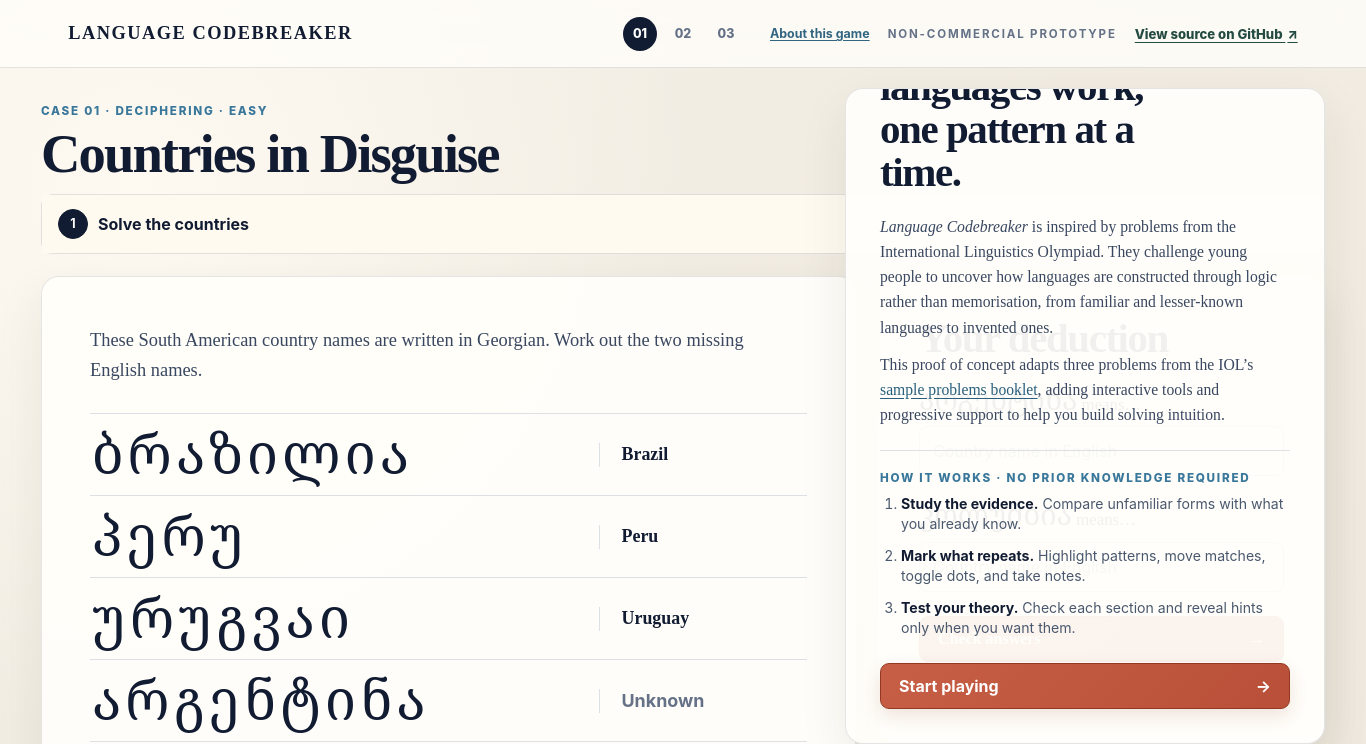
Scenario: prototype interactions › turns validation into a completion marker and distinguishes case navigation
The image size is (1366, 744).
(page scrolled)
Click the button "Start playing →".
click(949, 686)  # box [880,663,1290,709]
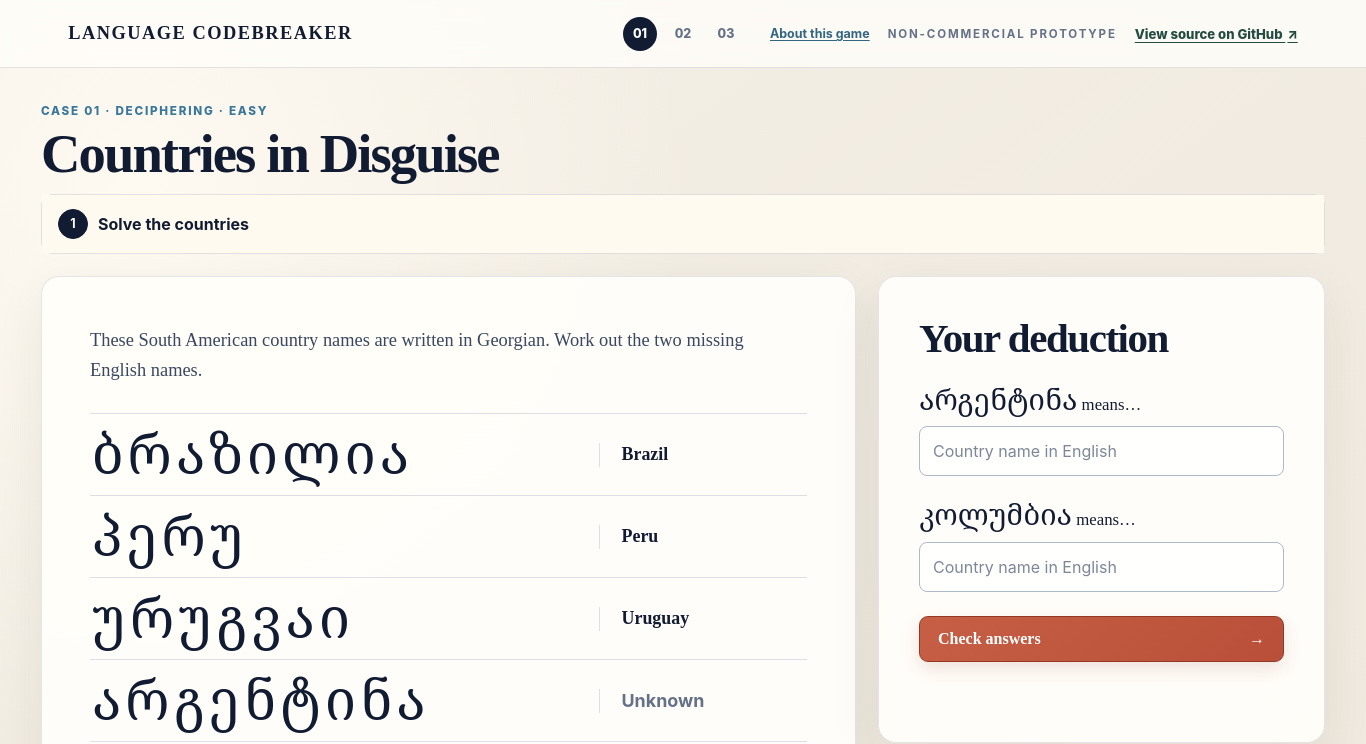
Type "Argentina" into the field with placeholder "Country name in English".
click(1102, 451); type("Argentina")  # box [919,426,1284,476]
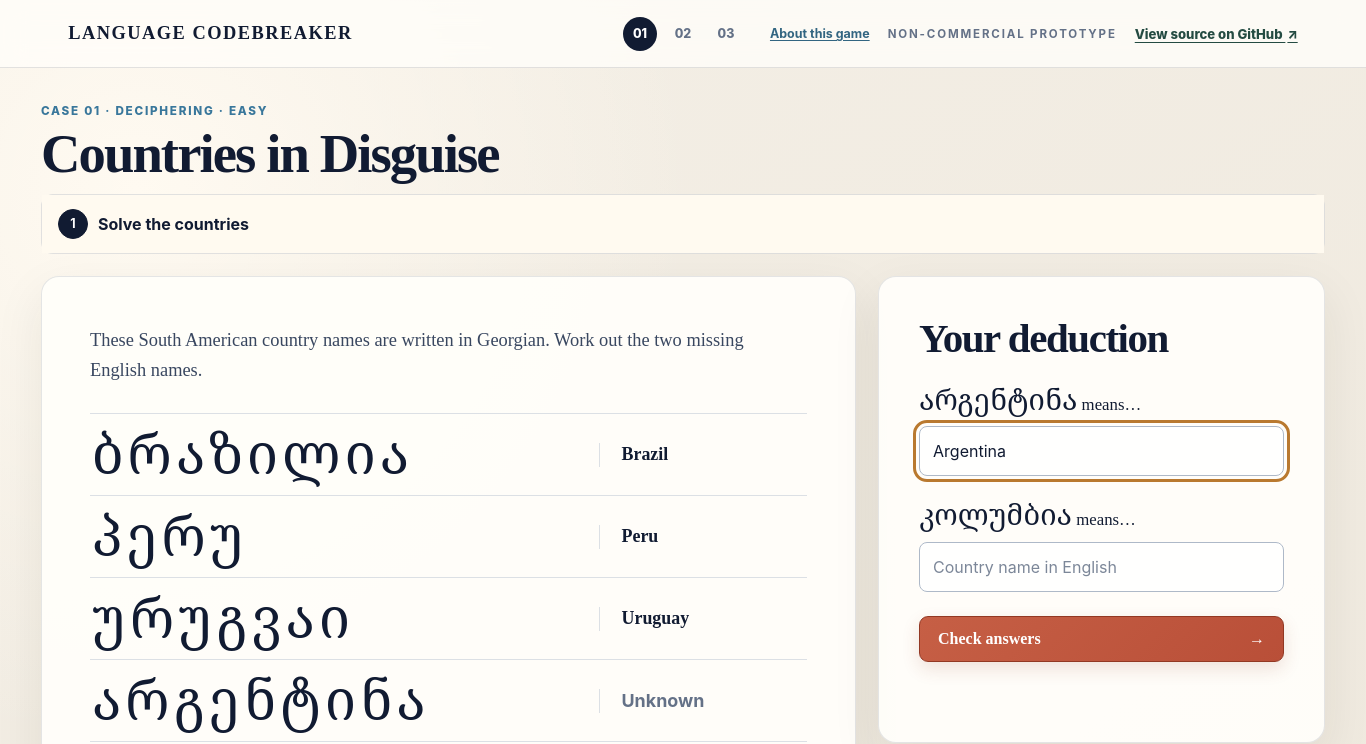
Type "Colombia" into the field with placeholder "Country name in English".
click(1102, 567); type("Colombia")  # box [919,542,1284,592]
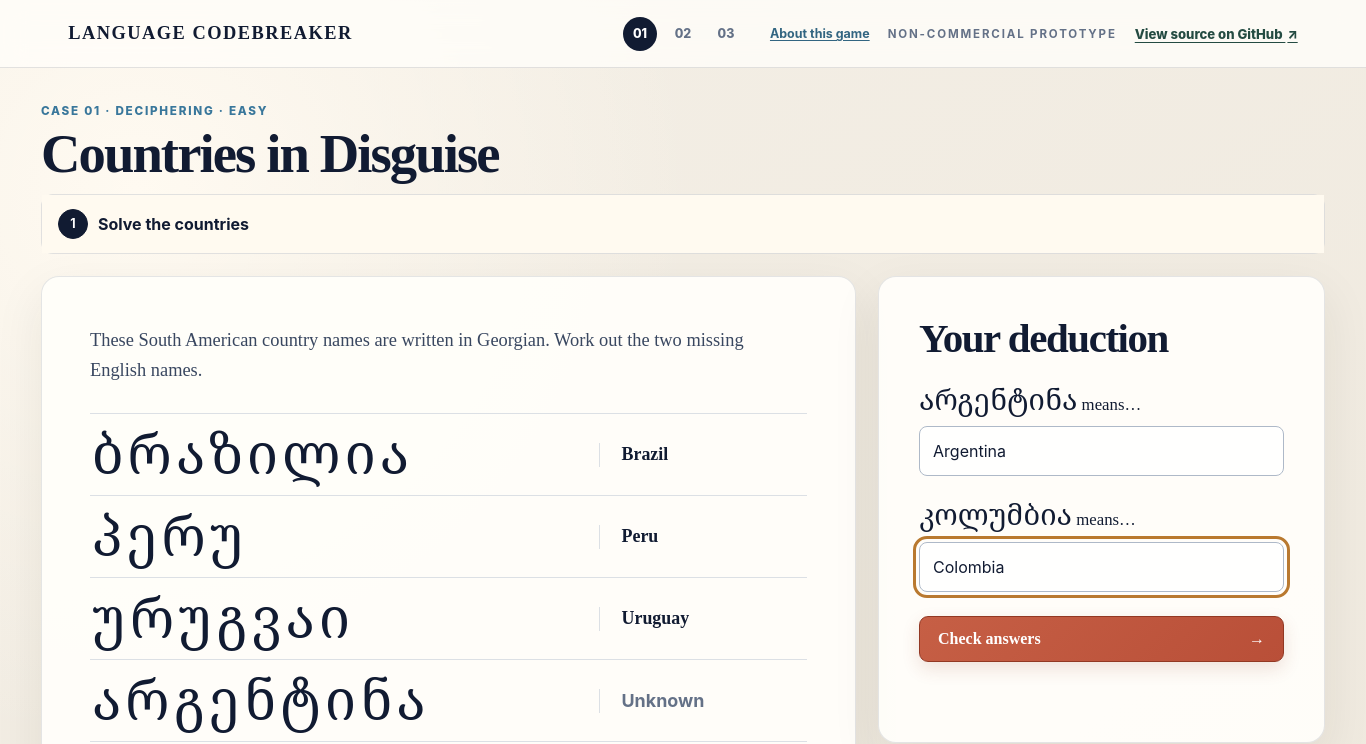
Click the button "Check answers →".
click(989, 639)  # box [919,616,1284,662]
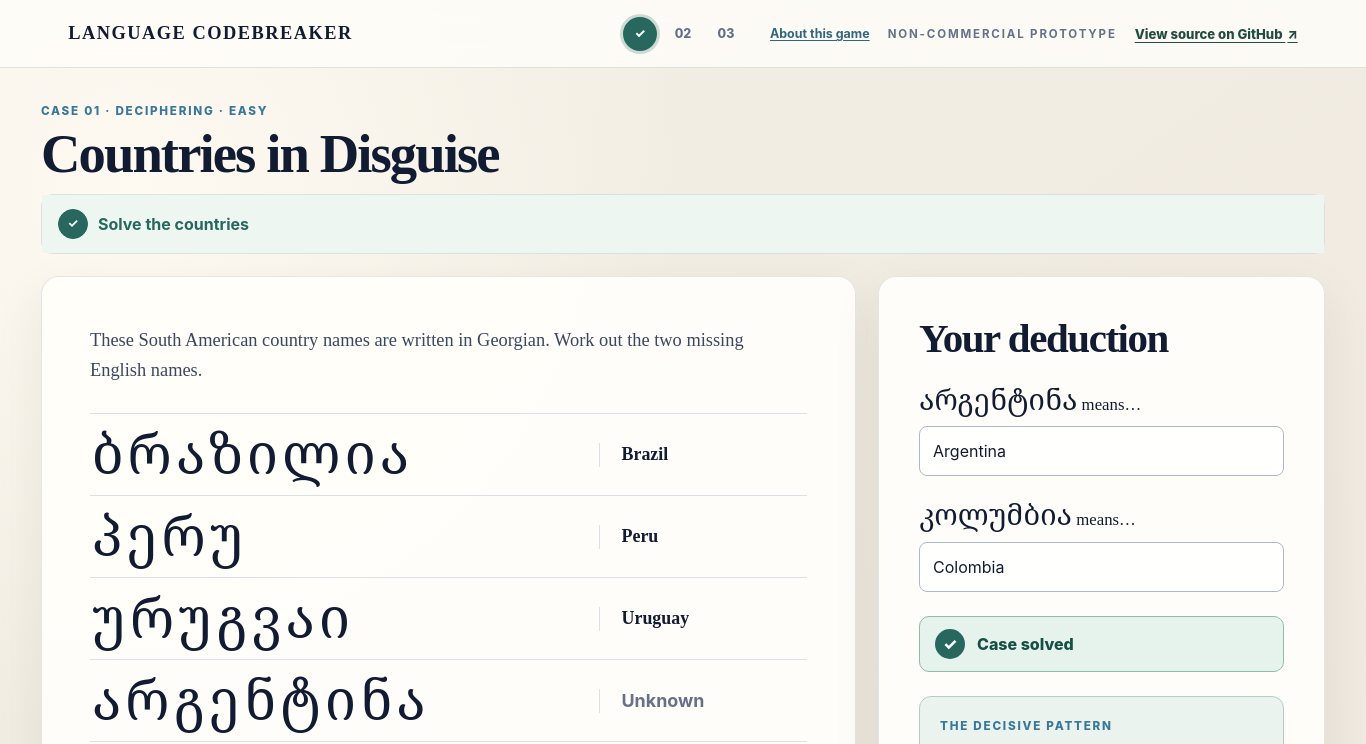
Result: the text "Case solved" is shown at [977,634,1074,654]
Result: the button "Check answers" is gone
Result: the button named "Open case 1:" reads "✓" at [623,16,657,50]
